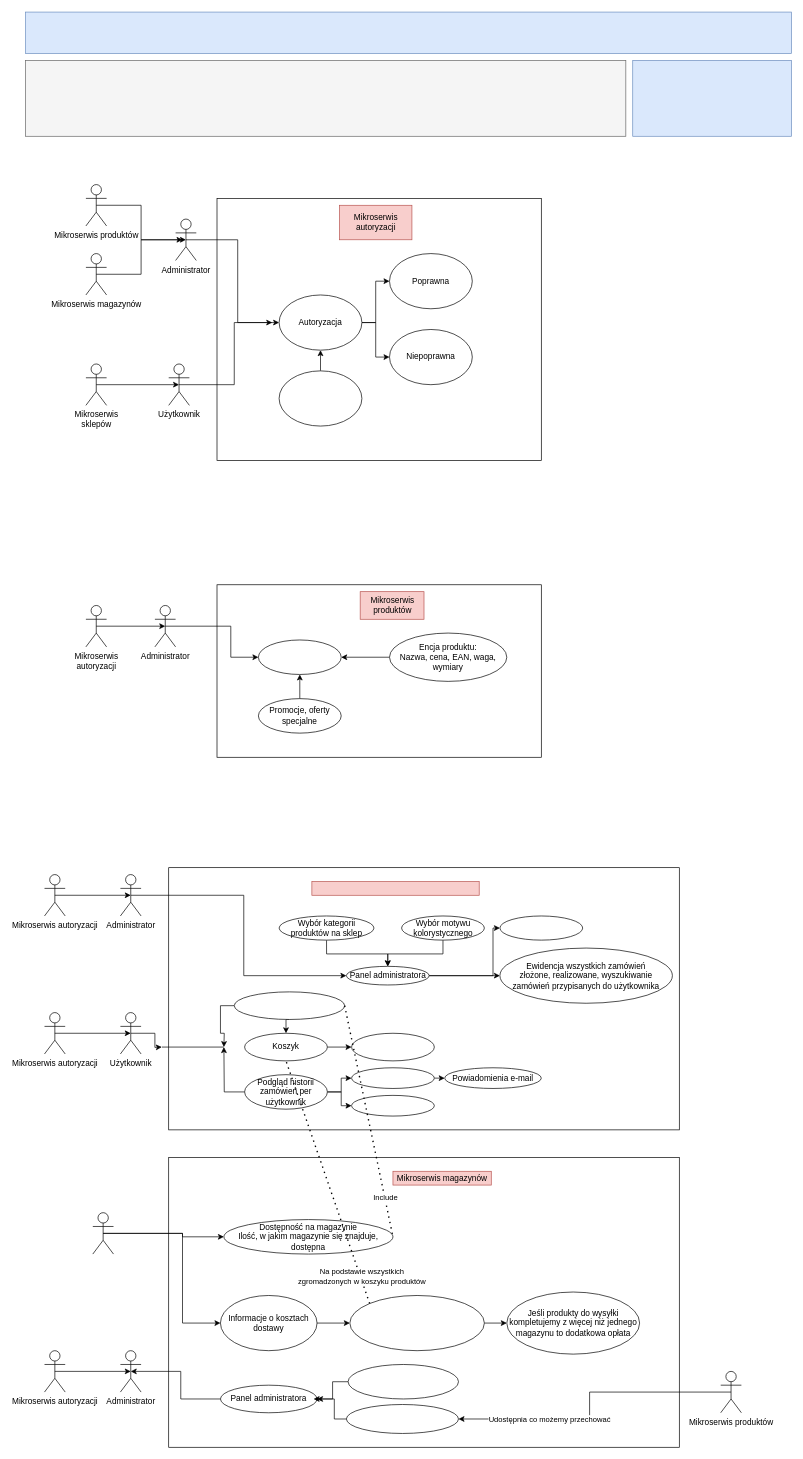
The diagram is 803 pixels wide and 1459 high, and some of its shapes have lost their labels. The shapes that lost their labels are listed below. From the top down, each one's centre as x and y in pixels, then its label:
[408,32]: Ekosystem dla obsługi zakupów on-line rok akademicki 2020/21, semestr zimowy
[711,98]: Karol Lech Przemysław Pleśniarski Krzysztof Podkulski Marcin Wielgos LAB 3
[320,398]: Przechowywanie danych o użytkownikach
[299,656]: CRUD
[395,888]: Mikroserwis sklepów internetowych
[541,927]: Marża
[289,1005]: Wyszukiwanie produktów w sklepie
[392,1047]: Złożenie zamówienia
[392,1077]: Statusy
[392,1105]: Faktury
[103,1233]: Mikroserwis sklepów [Wyszukiwarka, koszyk]
[416,1323]: Cena wysyłki towaru obliczana z koszyka sklepu internetowego za pomocą EAN
[403,1381]: Zarządzanie ilością (uzupełnianie magazynu)
[402,1418]: Przypisanie produktu do magazynu
